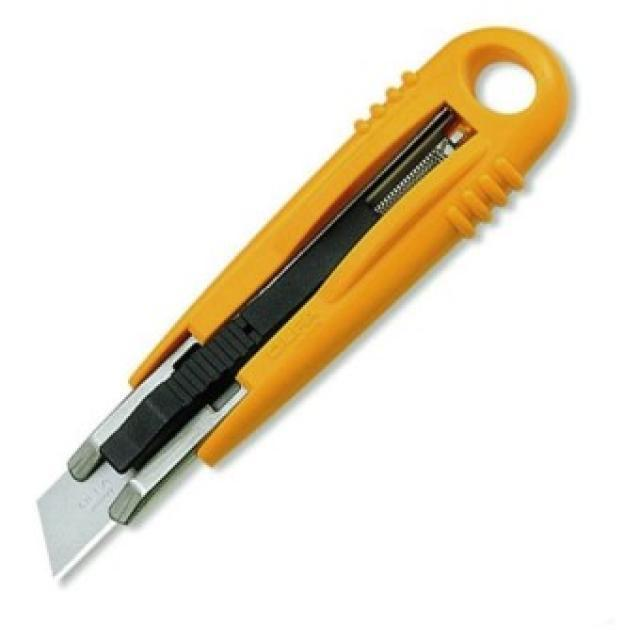cutter: (36, 22, 566, 598)
